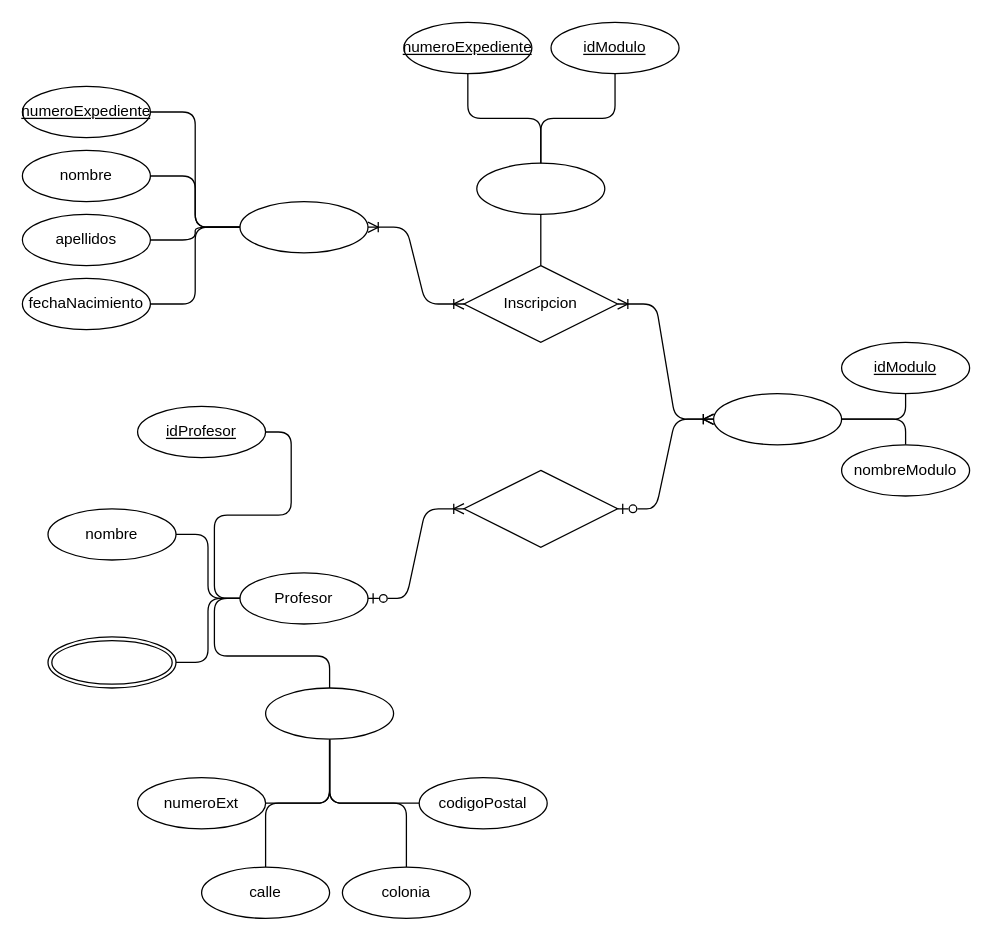
This 992x941 diagram has some shape labels left out. The shapes that lost their labels are listed below. From the top down, each one's centre as x and y in pixels, then its label:
[540,188]: registroInscripcion
[303,226]: Estudiante
[777,418]: Modulo
[540,508]: Imparte
[111,662]: numeroTelefono
[329,713]: direccion
